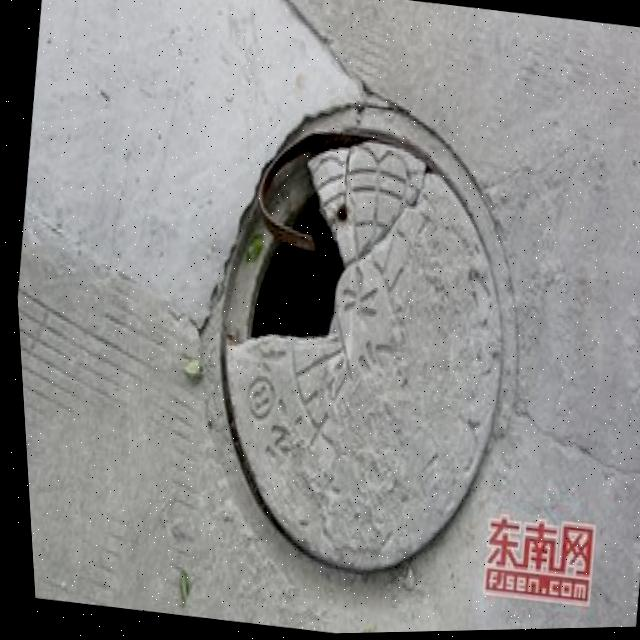manhole: (162, 61, 560, 604)
